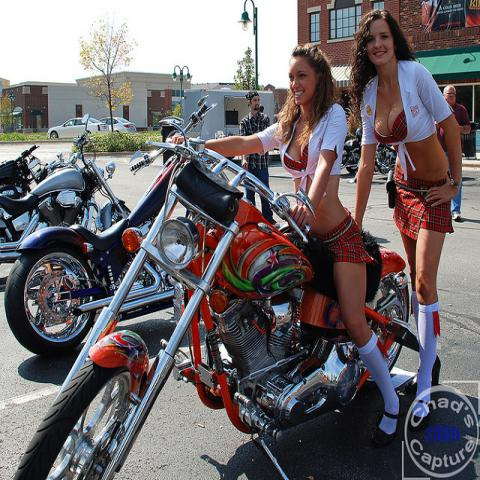car: (46, 117, 109, 140), (104, 116, 138, 135)
motorcycle: (12, 143, 421, 475), (1, 114, 126, 278), (2, 226, 126, 355), (0, 144, 46, 199)
